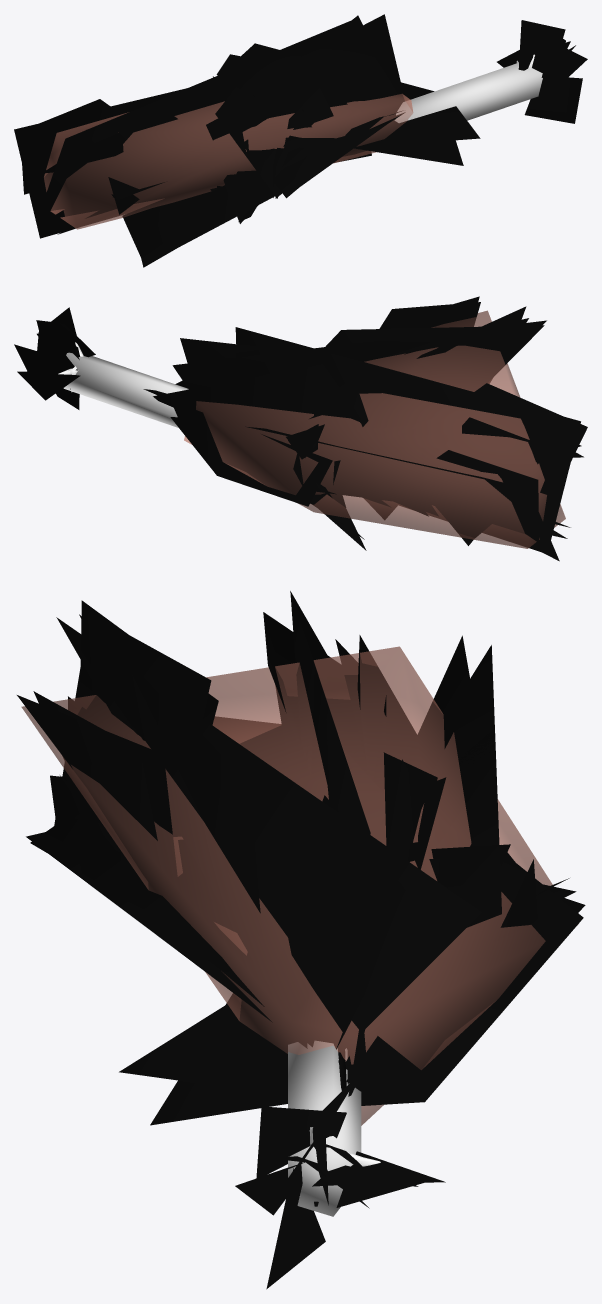
Rendered from tree_beech_dead_b.dae.
The picture shows the model from 3 angles, top to bottom: view 1: azimuth 30°, elevation 25°; view 2: azimuth 150°, elevation 25°; view 3: azimuth 270°, elevation 25°; orthographic projection. The views are drawn at different scales.
Parts seen in each view (by area): view 1: beech_dead_b_a800, beech_dead_b_a300, Colmesh_dead_b-1; view 2: beech_dead_b_a300, Colmesh_dead_b-1, beech_dead_b_a800; view 3: beech_dead_b_a300, beech_dead_b_a800, Colmesh_dead_b-1.
Boxes of the visible parts, x1,y1,x2,y2 form: beech_dead_b_a800: (20, 14, 587, 267); beech_dead_b_a300: (14, 15, 534, 265); Colmesh_dead_b-1: (44, 62, 542, 229); beech_dead_b_a300: (68, 302, 581, 561); Colmesh_dead_b-1: (63, 310, 565, 548); beech_dead_b_a800: (14, 296, 587, 550); beech_dead_b_a300: (26, 591, 583, 1163); beech_dead_b_a800: (17, 600, 585, 1289); Colmesh_dead_b-1: (21, 646, 578, 1216).
Size of the model in its own units: 9.14 by 4.27 by 2.98.
